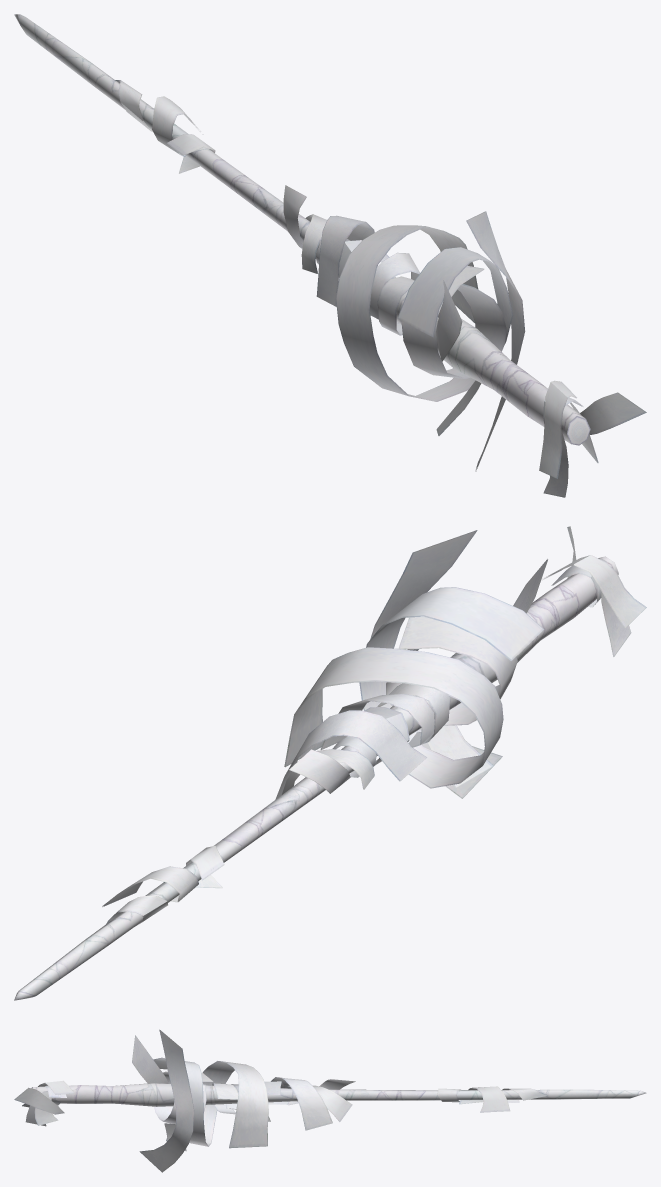
File: innominat rapier.obj
The picture shows the model from 3 angles, top to bottom: view 1: azimuth 30°, elevation 25°; view 2: azimuth 150°, elevation 25°; view 3: azimuth 270°, elevation 25°; orthographic projection. The views are drawn at different scales.
Visible parts, largest first — view 1: innominat_rapier; view 2: innominat_rapier; view 3: innominat_rapier.
Part boxes in pixels (box(x1,y1,x2,y2)): innominat_rapier: box(14, 14, 646, 497); innominat_rapier: box(14, 526, 646, 1000); innominat_rapier: box(14, 1029, 646, 1172).
Bounding box in the file's own units: 0.116 × 0.188 × 0.769.
